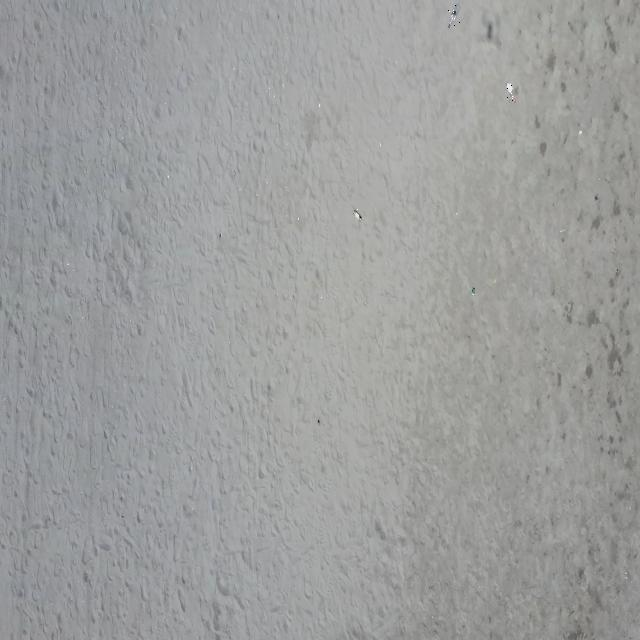glass: (448, 3, 460, 30), (506, 81, 516, 103), (353, 209, 361, 220), (470, 288, 474, 296)
